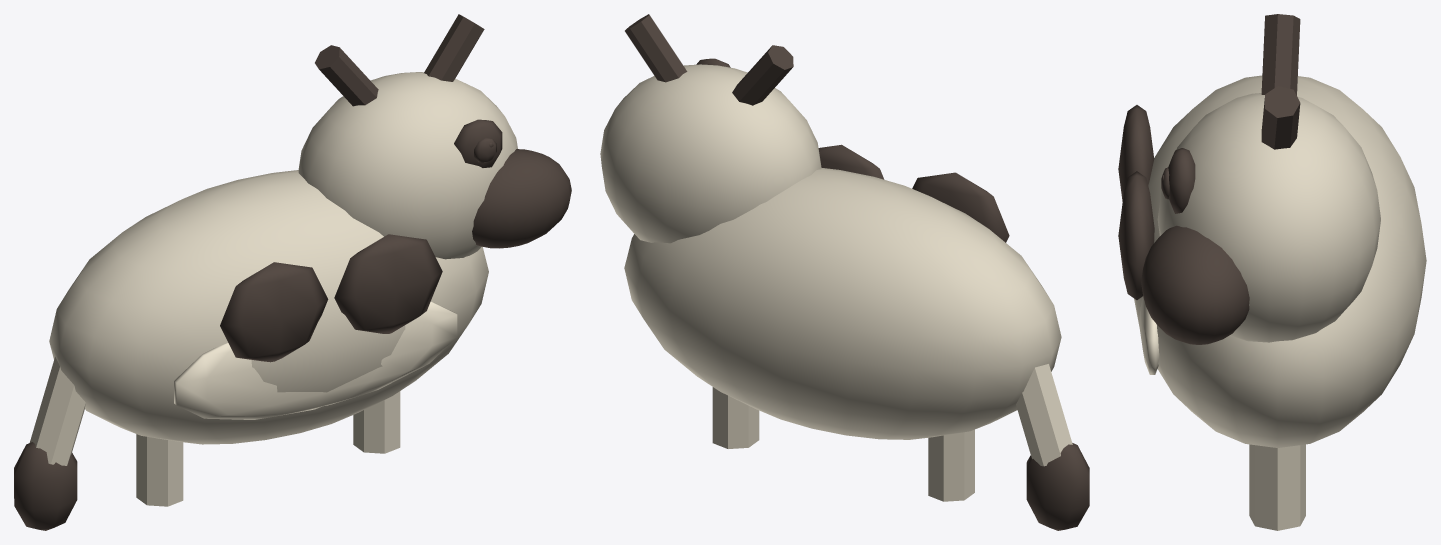
File: cow.glb
3 renders of one model, left to right at view 1: azimuth 30°, elevation 25°; view 2: azimuth 150°, elevation 25°; view 3: azimuth 270°, elevation 25°, orthographic. The views are drawn at different scales.
Visible parts, largest first — view 1: cow_root; view 2: cow_root; view 3: cow_root.
Part boxes in pixels (x1,y1,x2,y2): cow_root: (14,14,571,530); cow_root: (600,14,1089,530); cow_root: (1118,14,1426,530).
Bounding box in the file's own units: 1.95 × 1.5 × 0.8483.
